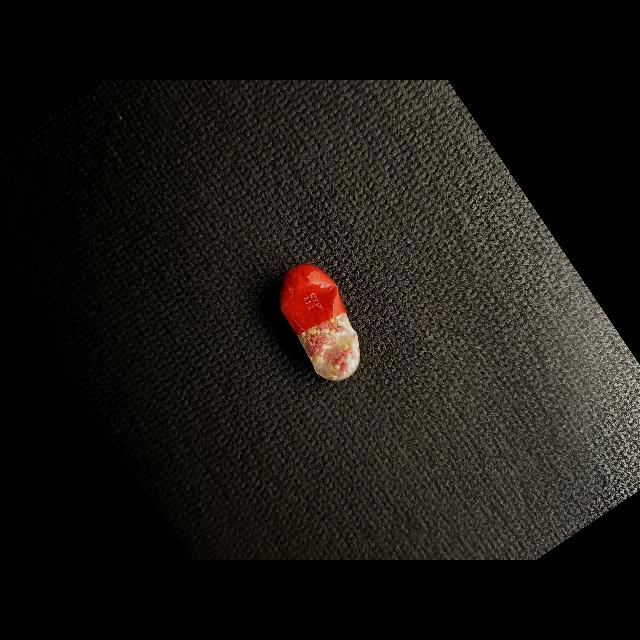Defective Capsule: (280, 263, 360, 381)
